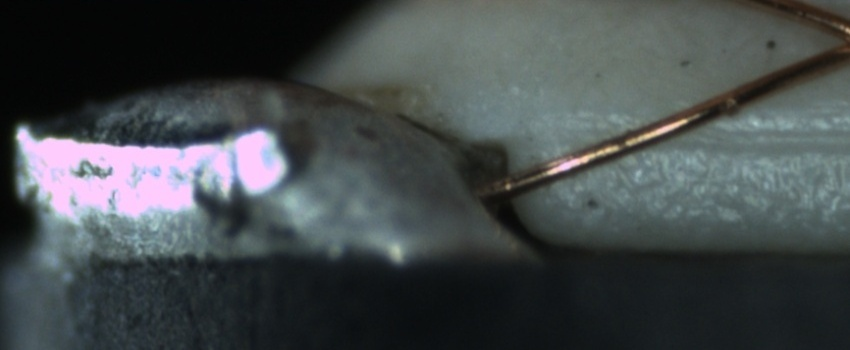DL: (573, 96, 841, 166)
